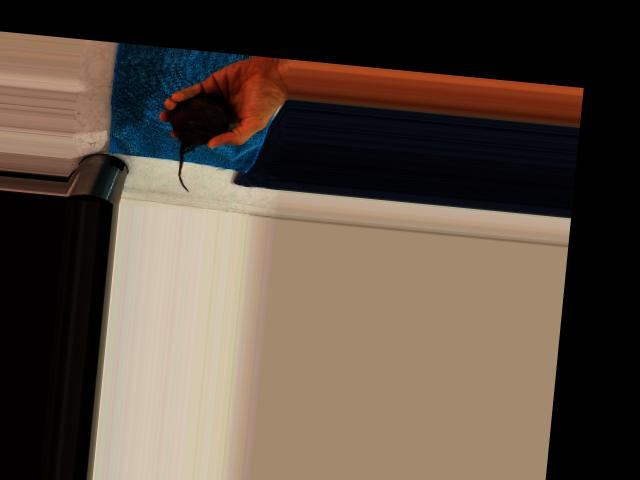beet: (162, 89, 231, 194)
